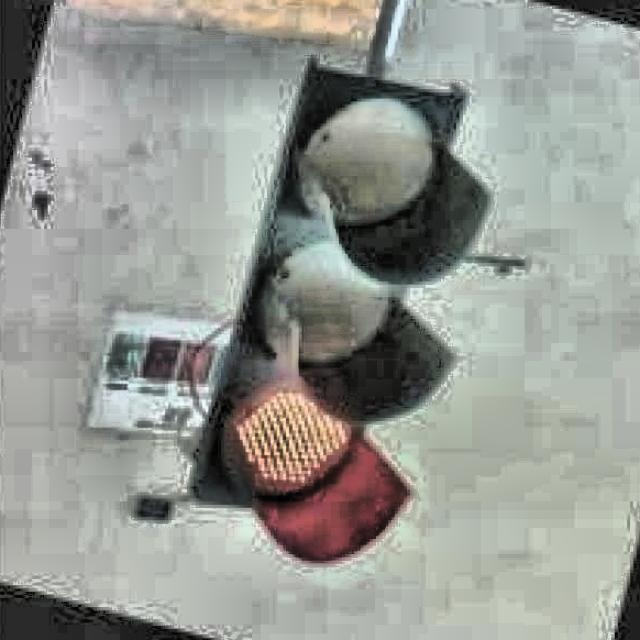red: (227, 62, 436, 545)
